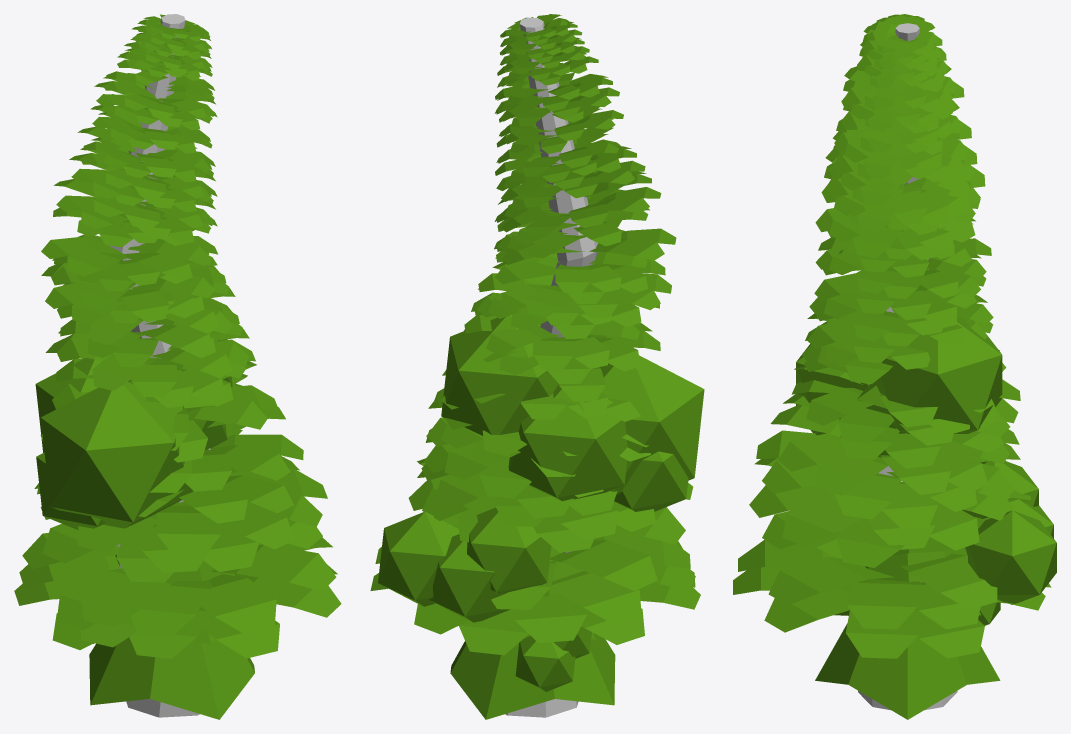
Rendered from Assets.fbx.
3 views of the same model, side by side, from view 1: azimuth 30°, elevation 25°; view 2: azimuth 150°, elevation 25°; view 3: azimuth 270°, elevation 25° (orthographic).
Visible parts, largest first — view 1: Tree3, Tree, Tree2; view 2: Tree3, Tree, Tree2; view 3: Tree3, Tree, Tree2.
Boxes of the visible parts, x1,y1,x2,y2 form: Tree3: (14, 14, 341, 717); Tree: (35, 339, 232, 643); Tree2: (89, 501, 254, 719); Tree3: (370, 14, 700, 717); Tree: (378, 314, 704, 691); Tree2: (450, 546, 615, 719); Tree3: (733, 14, 1051, 710); Tree: (796, 317, 1056, 625); Tree2: (815, 537, 1000, 719).
Bounding box in the file's own units: 567 × 1280 × 564.
